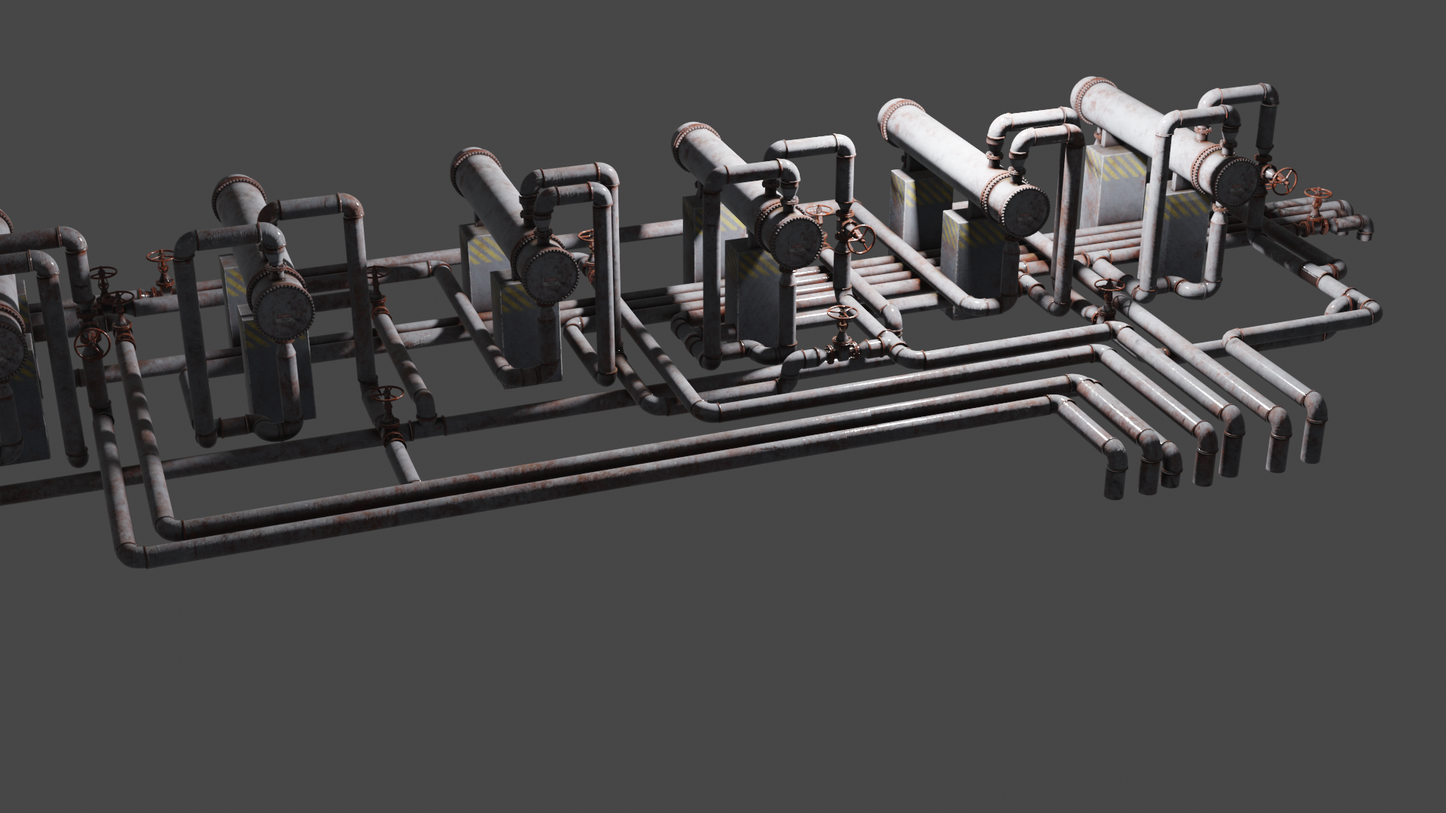HE_1: (0, 224, 30, 373)
HE_2: (211, 164, 310, 339)
HE_3: (448, 144, 574, 302)
HE_4: (669, 117, 822, 263)
HE_5: (875, 93, 1050, 235)
HE_6: (1065, 72, 1259, 202)
